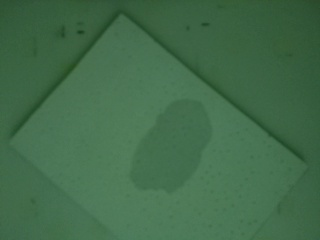Water_detected: (137, 107, 202, 185)
